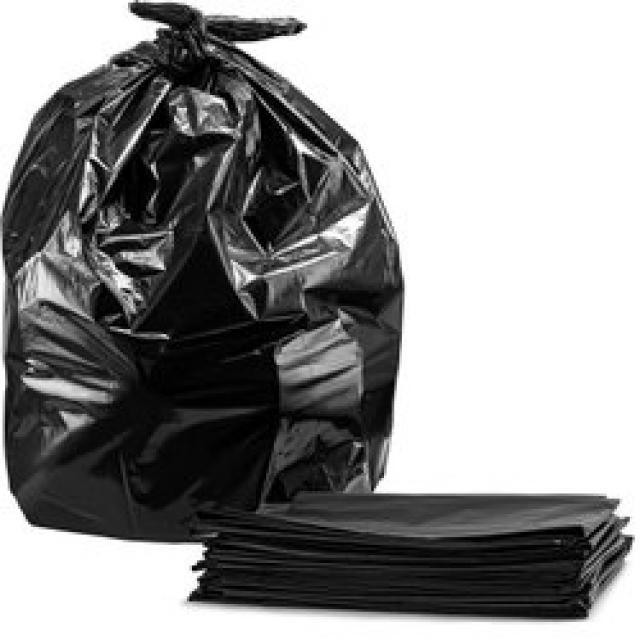garbage: (0, 0, 410, 553)
